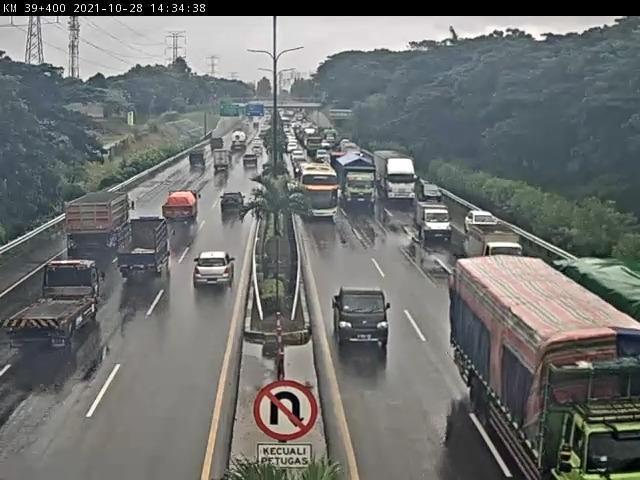bus: (293, 163, 343, 220)
car: (117, 214, 178, 281), (333, 287, 394, 348), (195, 251, 235, 292), (418, 204, 454, 238), (466, 205, 504, 229), (418, 178, 446, 205), (217, 192, 249, 215), (213, 150, 230, 172), (189, 147, 206, 168), (244, 154, 259, 169)
truck: (451, 258, 640, 480), (1, 260, 109, 347), (66, 190, 137, 256), (372, 150, 419, 202), (341, 153, 379, 206), (472, 226, 526, 261), (161, 190, 201, 222)
